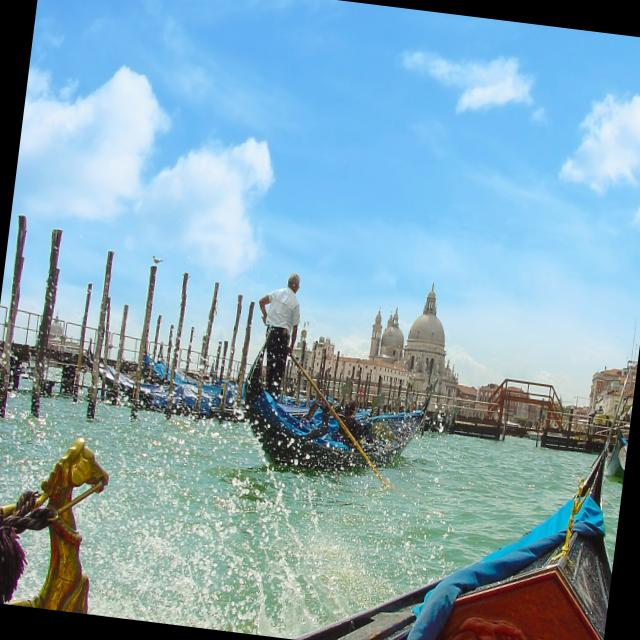boat: (213, 307, 456, 512)
